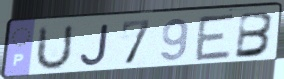7: (120, 18, 153, 67)
9: (159, 16, 191, 64)
B: (233, 11, 277, 61)
E: (193, 11, 237, 63)
J: (78, 22, 112, 68)
U: (32, 23, 75, 73)
